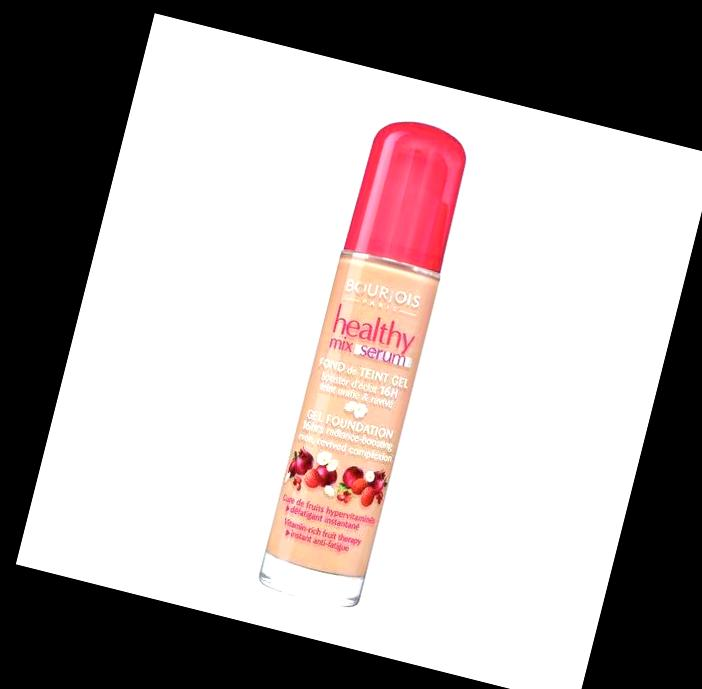cosmetic: (253, 110, 477, 608)
